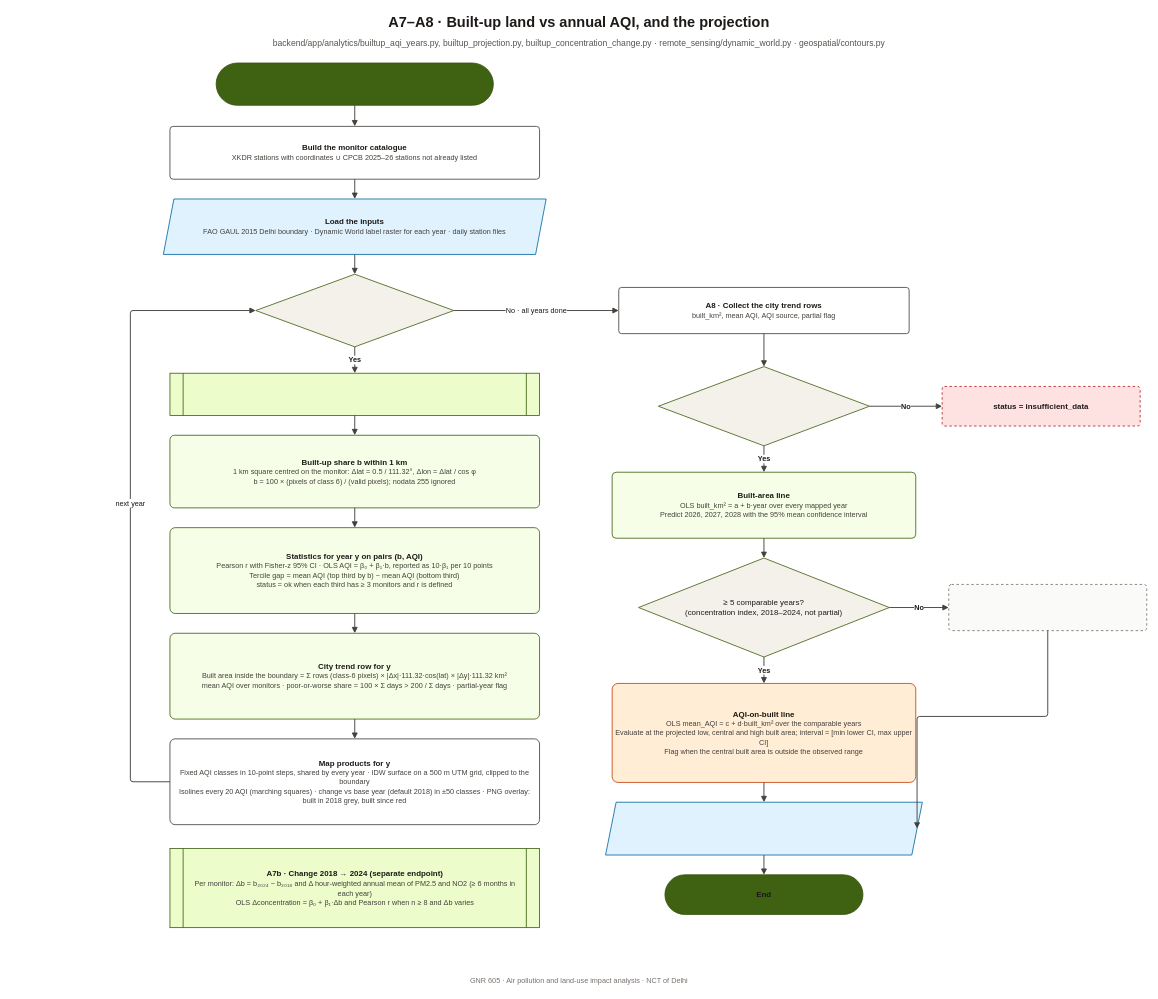
Some shapes in this 1158 by 999 pixel diagram are drawn without their labels. The shapes that lost their labels are listed below. From the top down, each one's centre as x and y in pixels, then its label:
point (354, 83): Start · A7 Years 2018–2026, Delhi
point (354, 310): Next year y?
point (354, 394): Annual AQI per monitor (A6) Concentration sub-index ≤ 2024 · hourly index ≥ 2025
point (764, 406): ≥ 8 years with built km²?
point (1047, 607): AQI line withheld The built-area line is still returned
point (763, 828): Return the projections Pearson r(built, AQI) · data_kind = model_prediction
